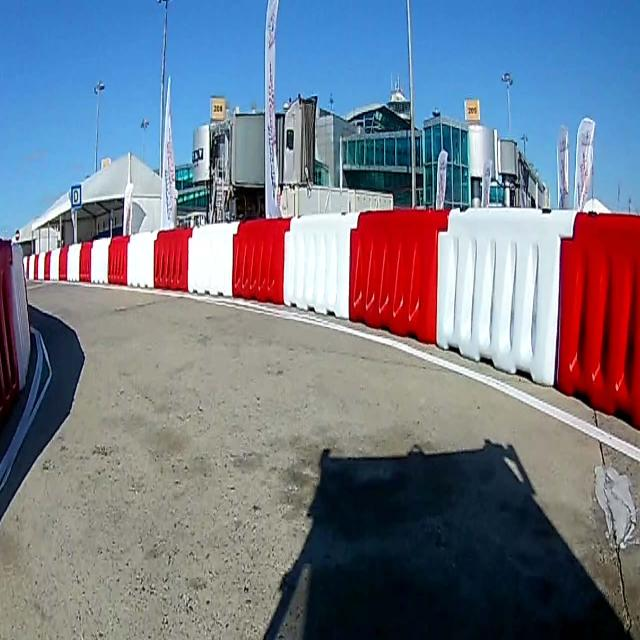durak: (71, 185, 81, 208)
